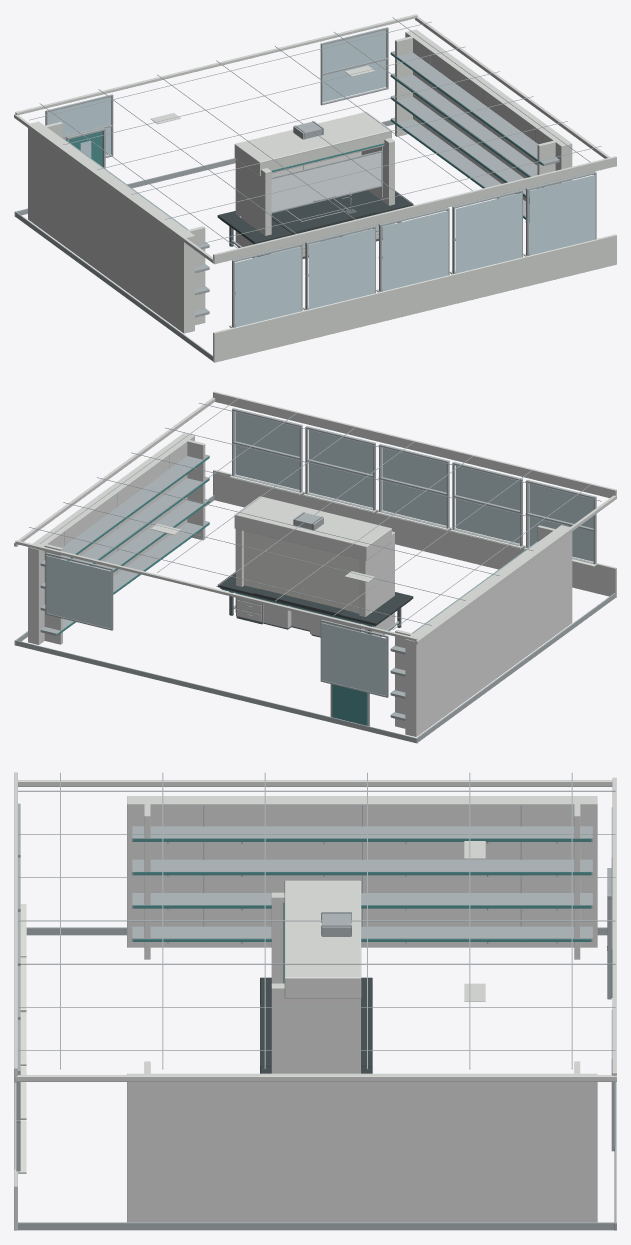
File: ModernLabKit.fbx
The picture shows the model from 3 angles, top to bottom: view 1: azimuth 30°, elevation 25°; view 2: azimuth 150°, elevation 25°; view 3: azimuth 270°, elevation 25°; orthographic projection. The views are drawn at different scales.
Parts seen in each view (by area): view 1: RoomDetail_Window, RoomDetail_Ivory, StorageLeft_Ivory, RoomDetail_Steel, Hood_Ivory, StorageRight_Steel, StorageRight_Ivory, Hood_Glass, Workbench_Worktop, StorageRight_Teal, Sink_Worktop, Hood_Steel (+3 smaller); view 2: RoomDetail_Window, StorageLeft_Ivory, RoomDetail_Ivory, RoomDetail_Steel, Hood_Ivory, StorageRight_Ivory, StorageRight_Steel, Hood_Ceramic, RoomDetail_Ceramic, StorageRight_Teal, Workbench_Worktop, RoomDetail_Teal (+5 smaller); view 3: StorageRight_Ivory, StorageLeft_Ivory, StorageLeft_Steel, RoomDetail_Steel, Hood_Ivory, RoomDetail_Ivory, StorageLeft_Teal, RoomDetail_Ceramic, Sink_Worktop, Workbench_Worktop, Hood_Steel.
Boxes of the visible parts, bbox=[...] form: RoomDetail_Window: bbox=[47, 30, 595, 327]; RoomDetail_Ivory: bbox=[14, 14, 616, 362]; StorageLeft_Ivory: bbox=[28, 121, 205, 333]; RoomDetail_Steel: bbox=[14, 17, 601, 360]; Hood_Ivory: bbox=[234, 112, 394, 257]; StorageRight_Steel: bbox=[391, 51, 559, 219]; StorageRight_Ivory: bbox=[395, 29, 572, 203]; Hood_Glass: bbox=[271, 152, 381, 211]; Workbench_Worktop: bbox=[217, 190, 413, 244]; StorageRight_Teal: bbox=[390, 52, 542, 219]; Sink_Worktop: bbox=[271, 194, 376, 234]; Hood_Steel: bbox=[271, 121, 382, 213]; RoomDetail_Window: bbox=[46, 411, 593, 695]; StorageLeft_Ivory: bbox=[395, 525, 572, 736]; RoomDetail_Ivory: bbox=[14, 391, 616, 644]; RoomDetail_Steel: bbox=[14, 398, 615, 743]; Hood_Ivory: bbox=[234, 496, 394, 635]; StorageRight_Ivory: bbox=[28, 433, 205, 644]; StorageRight_Steel: bbox=[40, 454, 209, 635]; Hood_Ceramic: bbox=[244, 531, 359, 612]; RoomDetail_Ceramic: bbox=[229, 474, 597, 567]; StorageRight_Teal: bbox=[57, 456, 209, 635]; Workbench_Worktop: bbox=[217, 572, 413, 625]; RoomDetail_Teal: bbox=[332, 684, 367, 725]; StorageRight_Ivory: bbox=[127, 1061, 597, 1222]; StorageLeft_Ivory: bbox=[127, 796, 597, 959]; StorageLeft_Steel: bbox=[132, 805, 592, 943]; RoomDetail_Steel: bbox=[16, 772, 616, 1230]; Hood_Ivory: bbox=[271, 880, 361, 1073]; RoomDetail_Ivory: bbox=[14, 772, 616, 1230]; StorageLeft_Teal: bbox=[133, 838, 591, 941]; RoomDetail_Ceramic: bbox=[14, 904, 26, 1173]; Sink_Worktop: bbox=[260, 1003, 372, 1067]; Workbench_Worktop: bbox=[260, 977, 372, 1073]; Hood_Steel: bbox=[322, 912, 351, 936].
Size of the model in its own units: 13.73 by 3.53 by 11.78.
